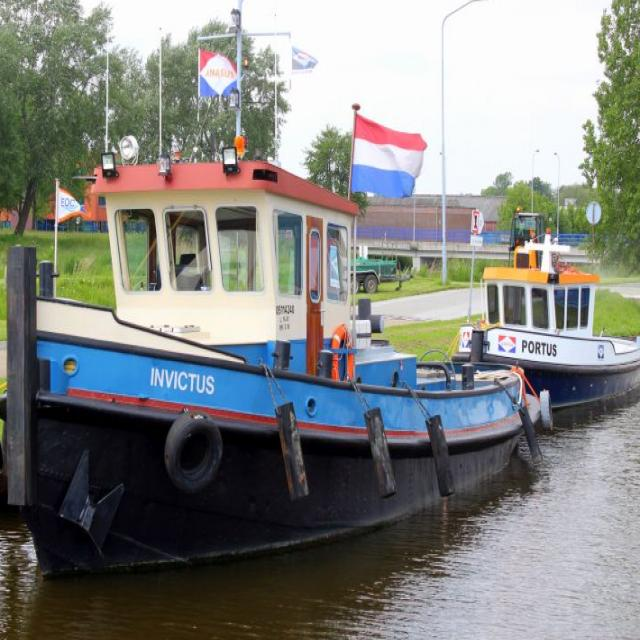tugboat: (1, 1, 554, 592), (449, 226, 640, 421)
